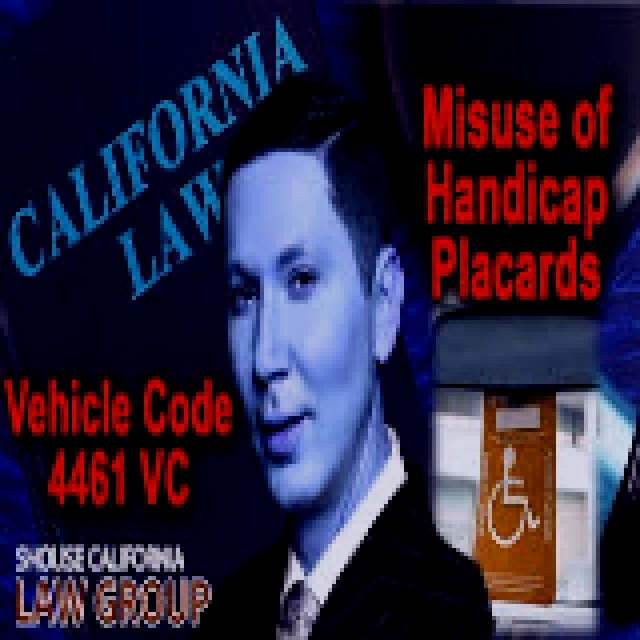ISA: (485, 442, 540, 543)
